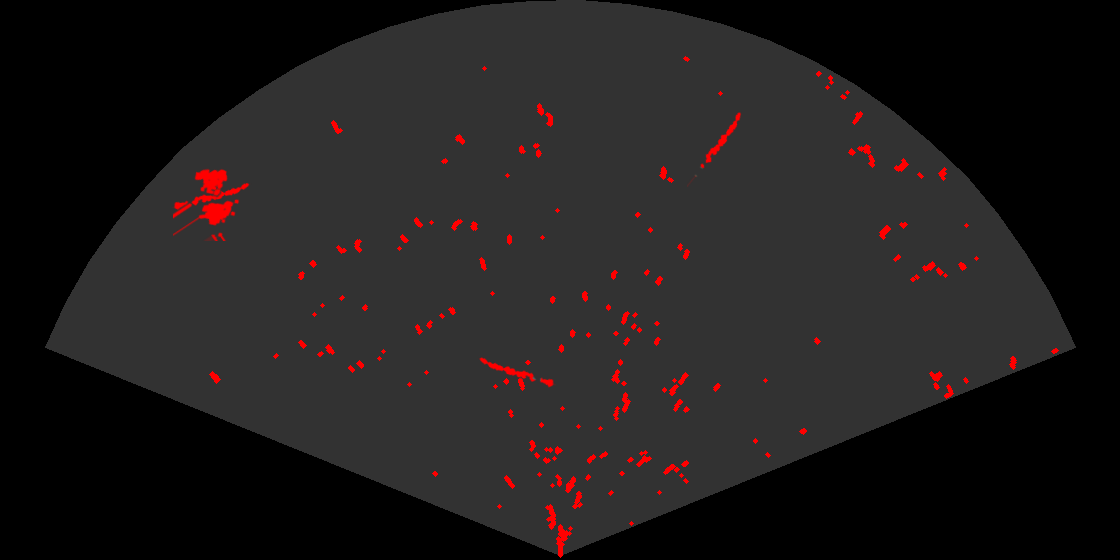cage: (173, 167, 241, 241)
chain: (687, 111, 743, 187), (478, 356, 556, 389), (171, 181, 252, 212)
